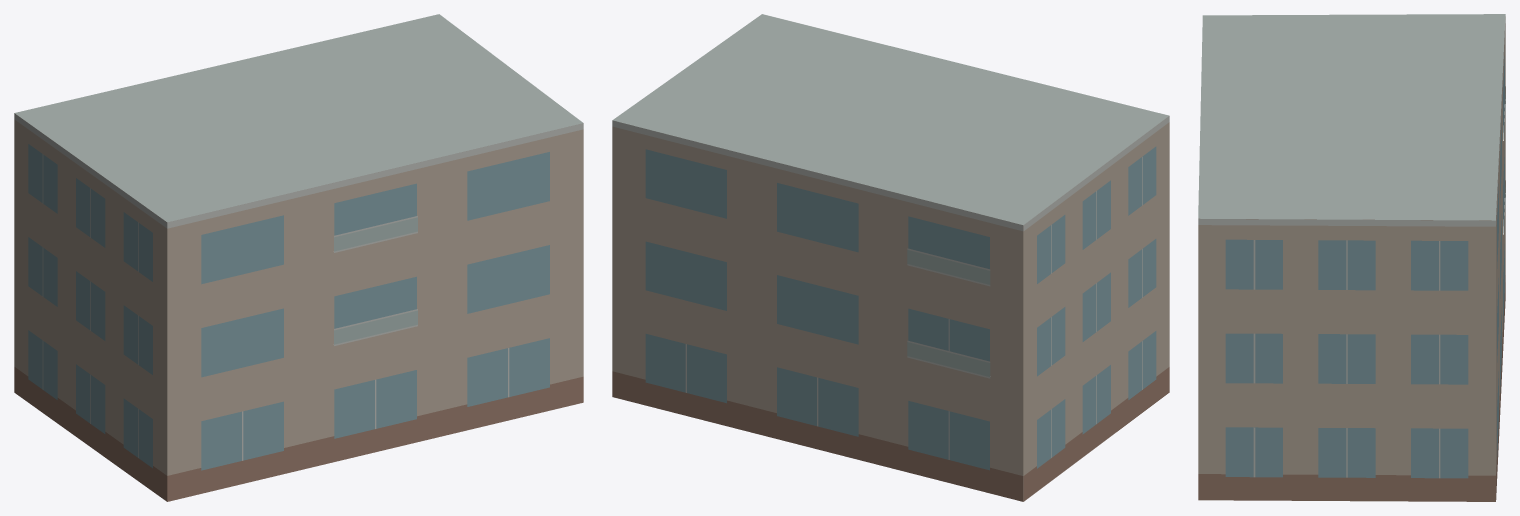
Rendered from survey-upis-32745606.glb.
The picture shows the model from 3 angles, left to right: view 1: azimuth 30°, elevation 25°; view 2: azimuth 150°, elevation 25°; view 3: azimuth 270°, elevation 25°; orthographic projection.
Visible parts, largest first — view 1: survey-upis-32745606.tmp; view 2: survey-upis-32745606.tmp; view 3: survey-upis-32745606.tmp.
Part boxes in pixels (left/top/right/bottom): survey-upis-32745606.tmp: left=14, top=14, right=583, bottom=501; survey-upis-32745606.tmp: left=612, top=14, right=1169, bottom=501; survey-upis-32745606.tmp: left=1198, top=14, right=1505, bottom=501.
Size of the model in its own units: 17.16 by 10.9 by 10.81.
